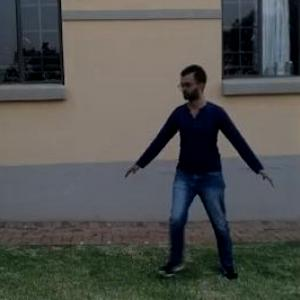land: (134, 70, 272, 251)
